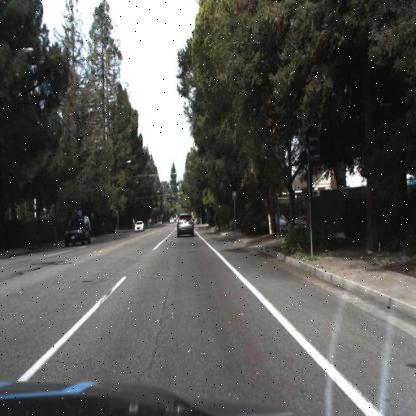car: (63, 214, 91, 246), (174, 208, 196, 239), (132, 216, 147, 236), (132, 218, 144, 234)
